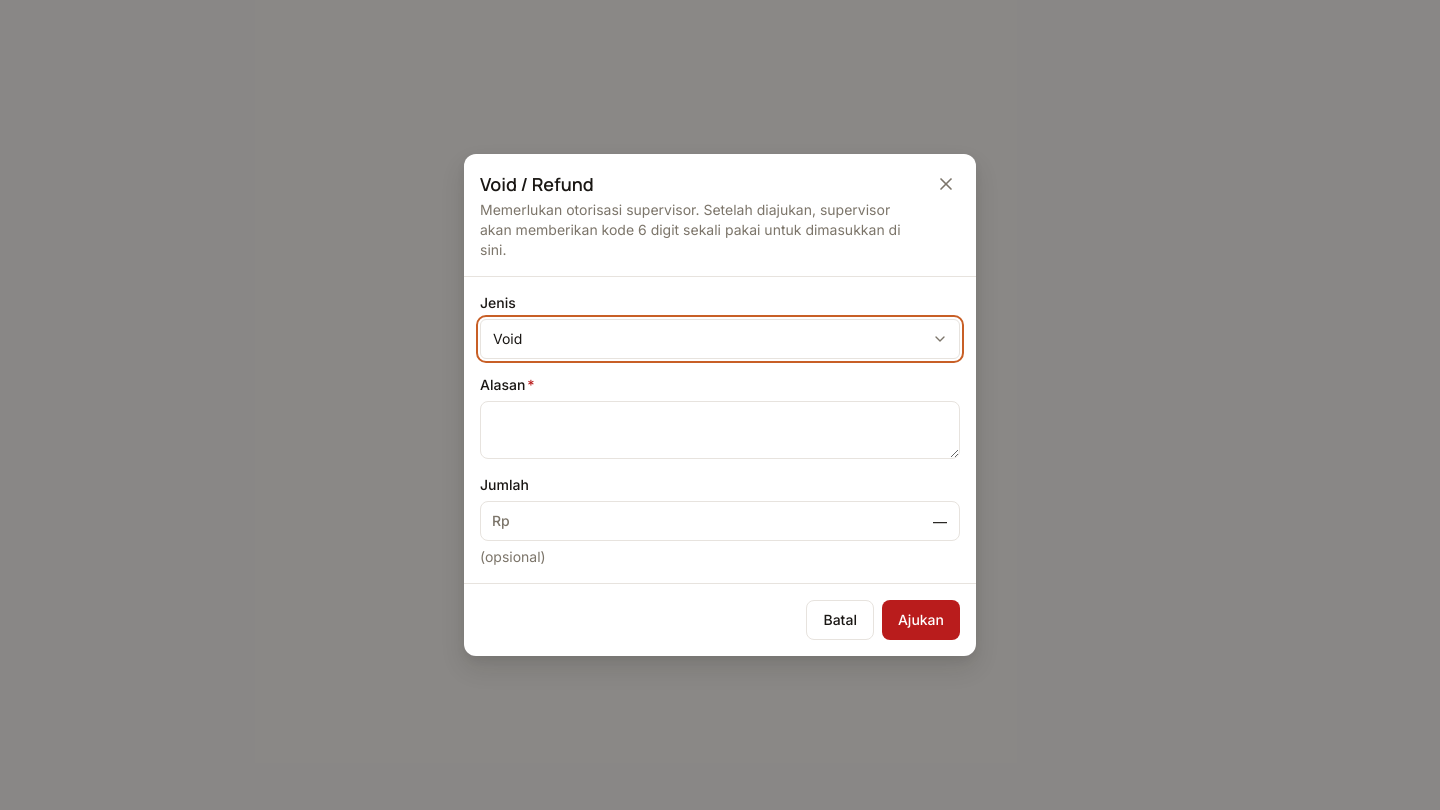
Test: VoidRefundModal — online, one-time code flow › strips non-digits as they are typed, so a pasted "481-920" still works
Step 1. Type "Salah input" into the text box labelled "Alasan*" → point(720, 430), box [480, 401, 960, 459]
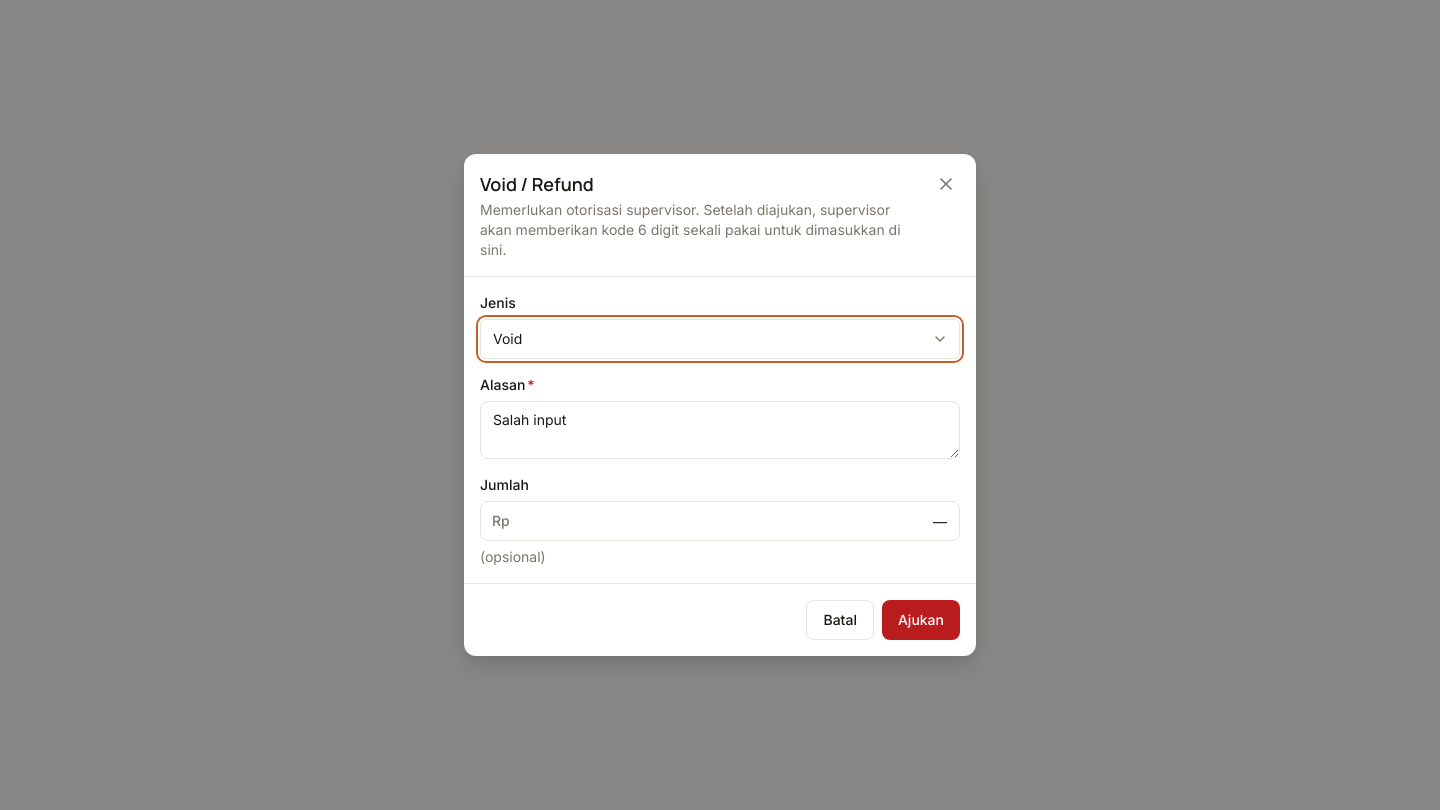
Step 2. Click the button "Ajukan" → point(921, 620), box [882, 600, 960, 640]
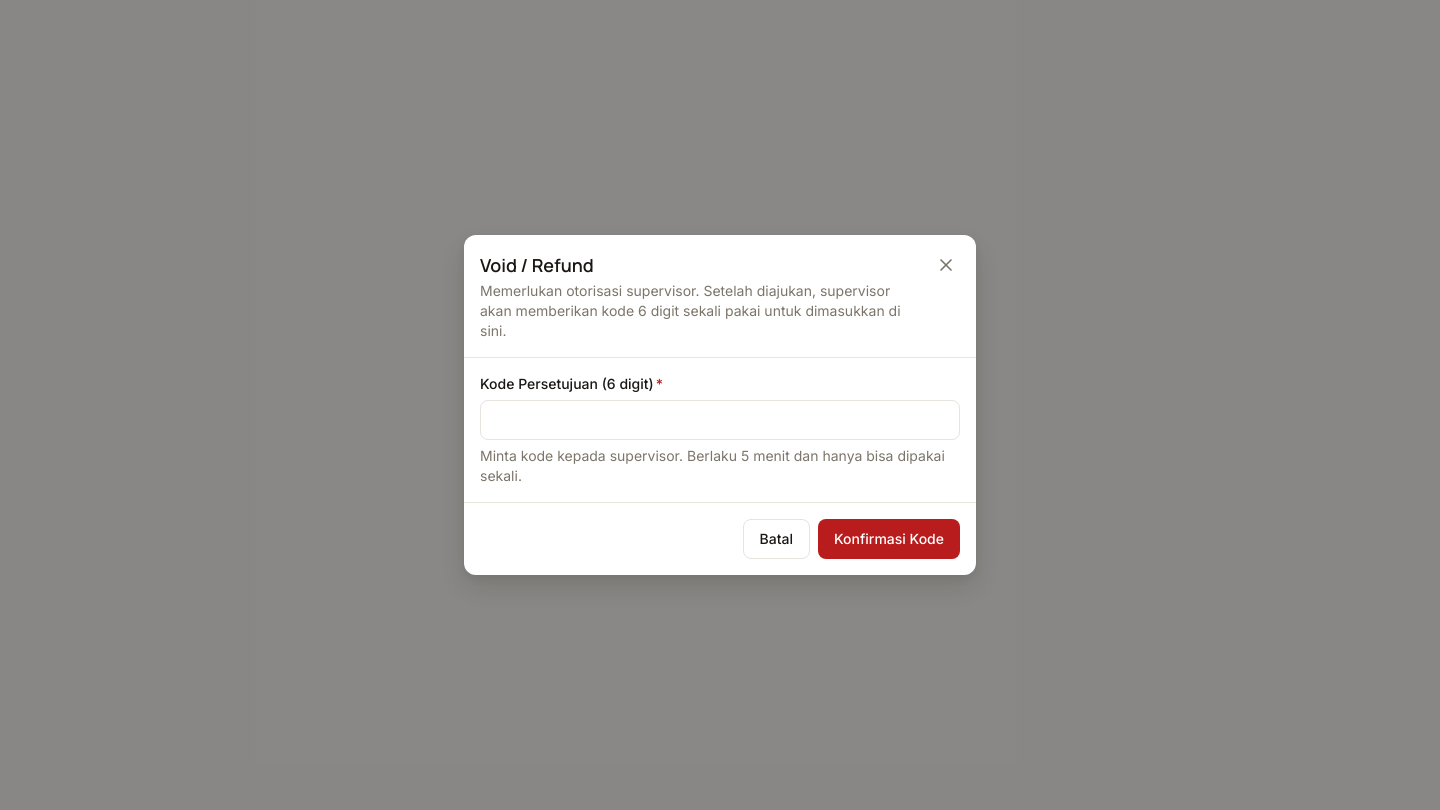
Step 3. Type "481-920" into the field labelled "Kode Persetujuan (6 digit)*" → point(720, 420), box [480, 400, 960, 440]
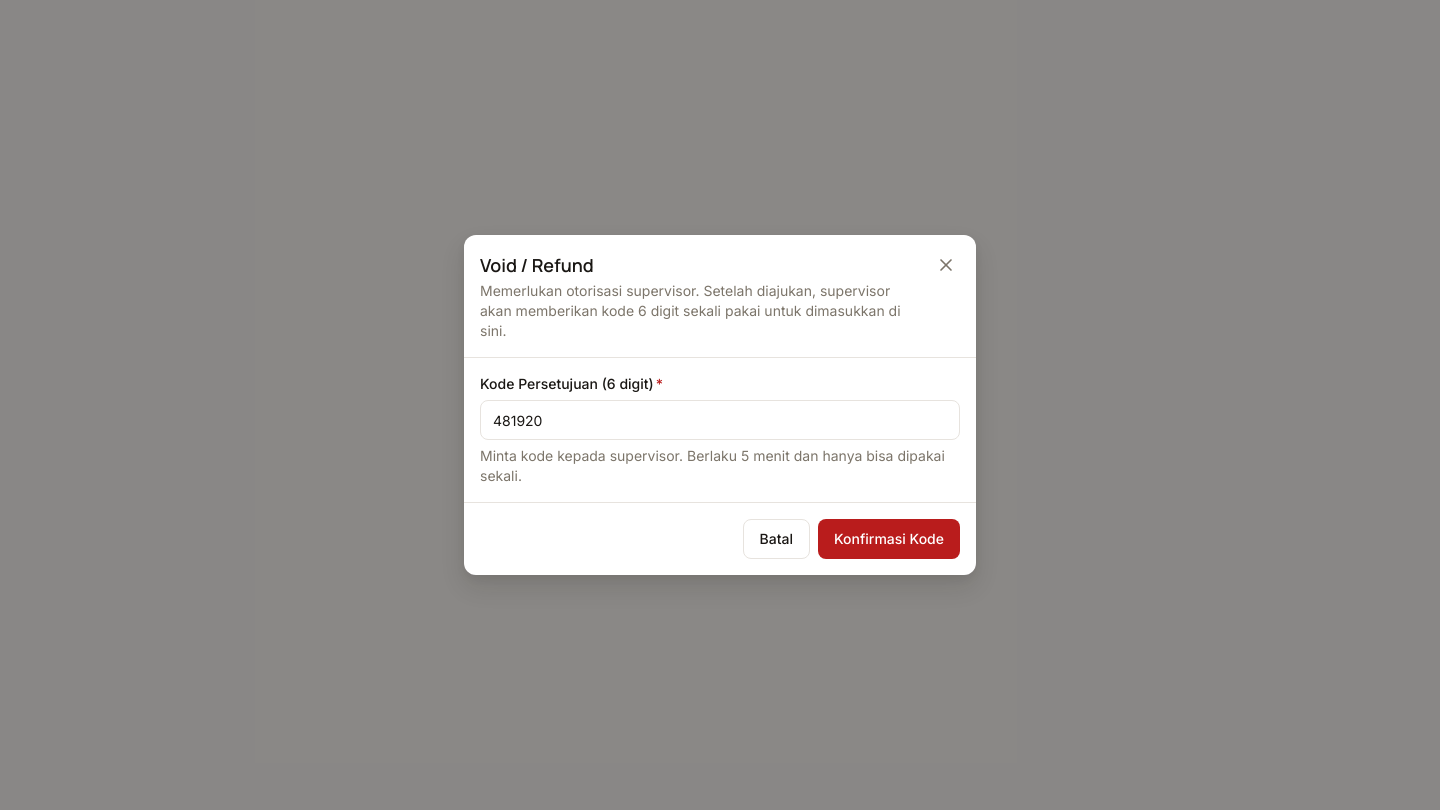
Expected: the field labelled "Kode Persetujuan (6 digit)*" holds "481920", [480, 400, 960, 440]
